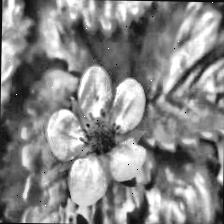Blossom Blight: (77, 106, 124, 161)
